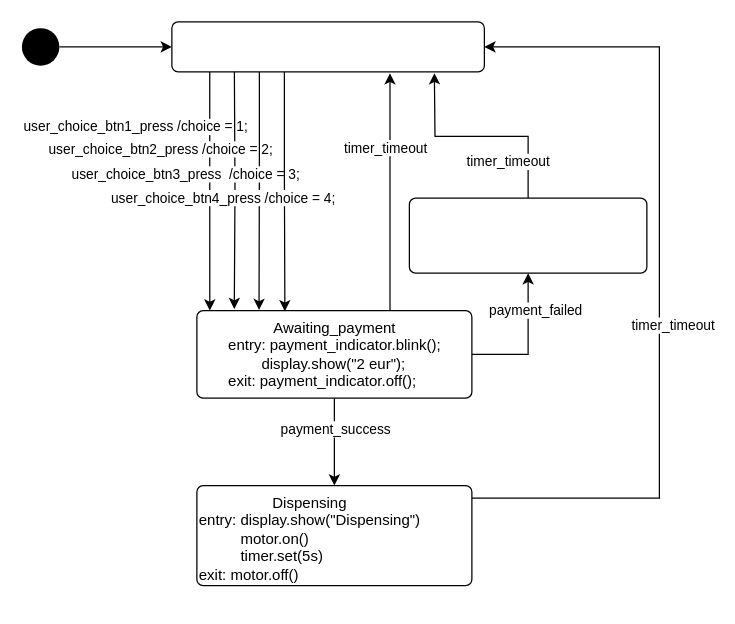
The diagram is 735 pixels wide and 624 high, and some of its shapes have lost their labels. The shapes that lost their labels are listed below. From the top down, each one's box as (x1, y1, x2, y2) in pixels, then its label:
(171, 21, 484, 72): Idle entry: display.show("Welcome, select a choice")
(408, 197, 647, 273): Showing_Error entry: display.show("Payment failed") timer.set(2s)
